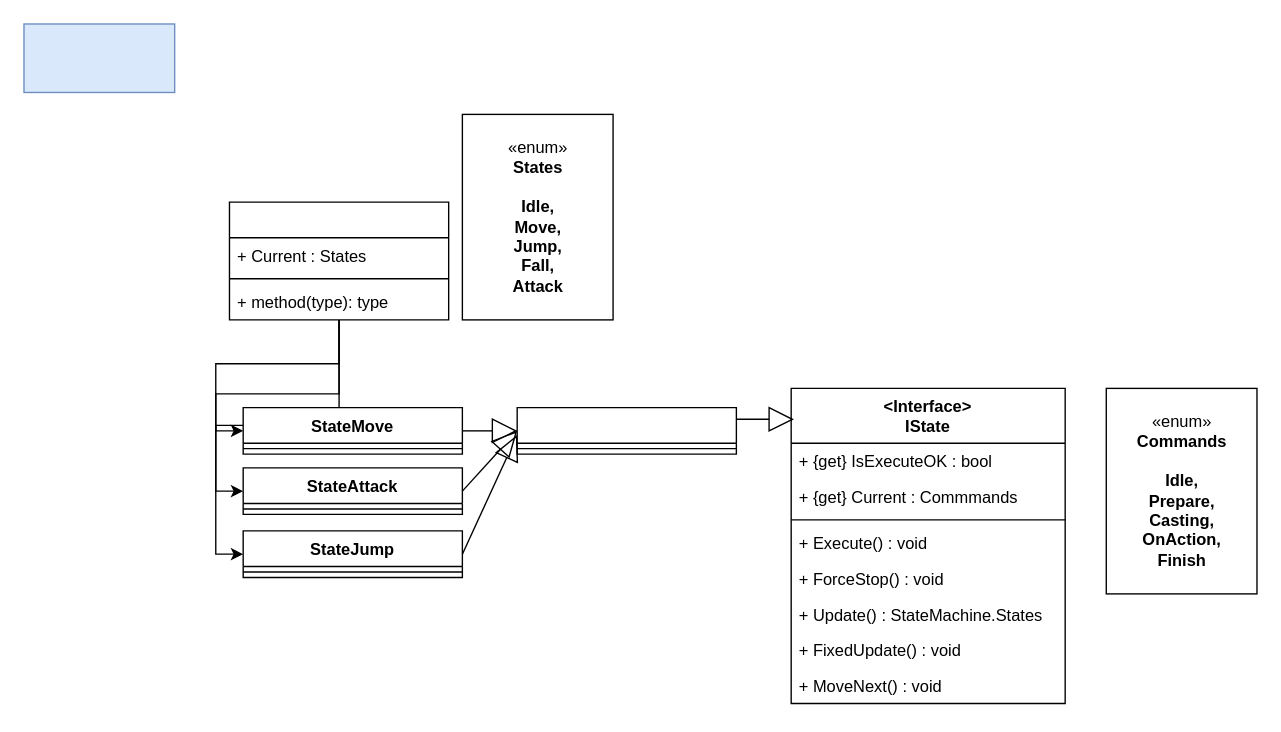
Some shapes in this 1281 by 732 pixel diagram are drawn without their labels. The box of each missing label's shape, as (x1, y1, x2, y2) in pixels:
State: (516, 406, 736, 454)
StateMachine: (228, 201, 449, 320)
UML: (23, 23, 175, 92)
